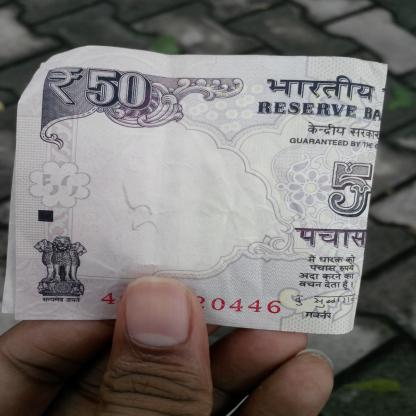Old50Front: (0, 45, 388, 336)
